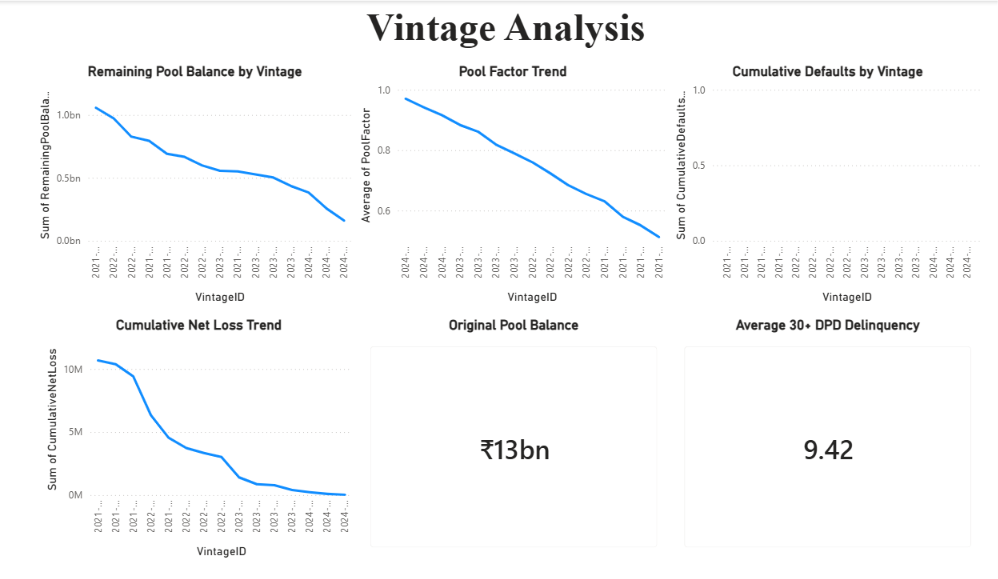

This screenshot's page, from the dashboard's own definition file:
{"tool":"powerbi","page":{"name":"Vintage Analysis","canvas":[1280,720],"ordinal":3},"visuals":[{"type":"textbox","box":[459.8,0,368.1,69.7],"z":0},{"type":"lineChart","title":"Remaining Pool Balance by Vintage","fields":{"Category":["static_pool_vintage_data.VintageID"],"Y":["Sum(static_pool_vintage_data.RemainingPoolBalance)"]},"box":[58.7,75.8,392.5,299.6],"z":1000},{"type":"lineChart","title":"Pool Factor Trend","fields":{"Category":["static_pool_vintage_data.VintageID"],"Y":["Avg(static_pool_vintage_data.PoolFactor)"]},"box":[451.7,75.6,385.2,299.6],"z":2000},{"type":"clusteredColumnChart","title":"Cumulative Defaults by Vintage","fields":{"Category":["static_pool_vintage_data.VintageID"],"Y":["Sum(static_pool_vintage_data.CumulativeDefaults_Count)"]},"box":[836.9,75.6,385,299.6],"z":3000},{"type":"lineChart","title":"Cumulative Net Loss Trend","fields":{"Category":["static_pool_vintage_data.VintageID"],"Y":["Sum(static_pool_vintage_data.CumulativeNetLoss)"]},"box":[67,386,385,300],"z":4000},{"type":"cardVisual","title":"Original Pool Balance","fields":{"Data":["Sum(static_pool_vintage_data.OriginalPoolBalance)"]},"box":[452,386,385,300],"z":5000},{"type":"cardVisual","title":"Average 30+ DPD Delinquency","fields":{"Data":["Sum(static_pool_vintage_data.CurrentDelinq30Plus)"]},"box":[837,386,385,300],"z":6000}]}

Visuals, with their boxes on the page's 1280x720 design canvas (x1, y1, x2, y2). These are canvas units, not pixel positions in the 998x579 screenshot, which may show the page scaled, cropped or inside an application window:
textbox: {"left": 460, "top": 0, "right": 828, "bottom": 70}
"Remaining Pool Balance by Vintage" lineChart: {"left": 59, "top": 76, "right": 451, "bottom": 375}
"Pool Factor Trend" lineChart: {"left": 452, "top": 76, "right": 837, "bottom": 375}
"Cumulative Defaults by Vintage" clusteredColumnChart: {"left": 837, "top": 76, "right": 1222, "bottom": 375}
"Cumulative Net Loss Trend" lineChart: {"left": 67, "top": 386, "right": 452, "bottom": 686}
"Original Pool Balance" cardVisual: {"left": 452, "top": 386, "right": 837, "bottom": 686}
"Average 30+ DPD Delinquency" cardVisual: {"left": 837, "top": 386, "right": 1222, "bottom": 686}
